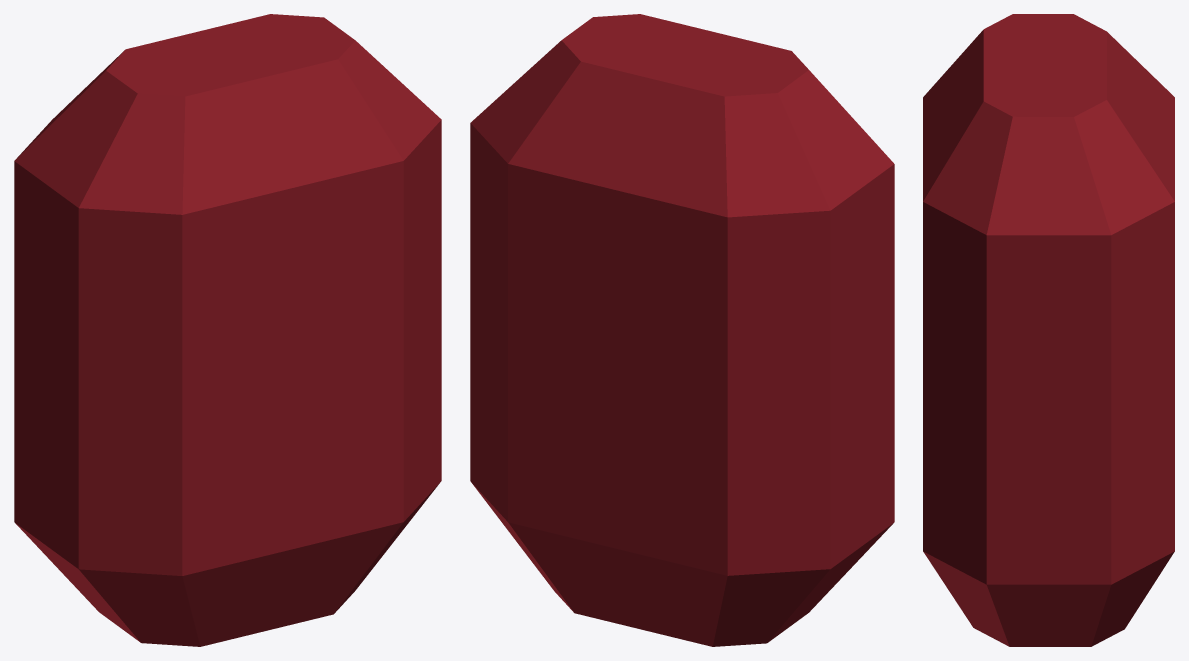
Rendered from rough-ruby-486f22.glb.
3 renders of one model, left to right at view 1: azimuth 30°, elevation 25°; view 2: azimuth 150°, elevation 25°; view 3: azimuth 270°, elevation 25°, orthographic. The views are drawn at different scales.
Visible parts, largest first — view 1: crystal; view 2: crystal; view 3: crystal.
Part boxes in pixels (x1,y1,x2,y2): crystal: (14,14,441,646); crystal: (470,14,894,646); crystal: (923,14,1174,646).
Size of the model in its own units: 0.0831 by 0.12 by 0.0516.
